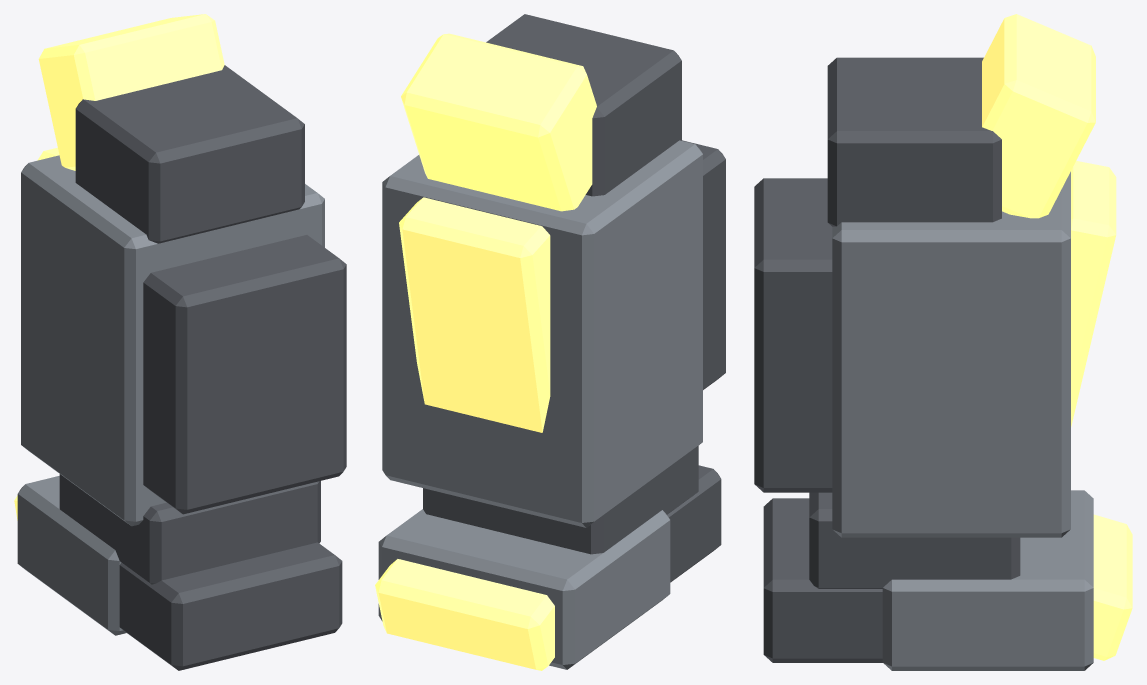
File: tankhead_leg_right_lower.glb
3 views of the same model, side by side, from view 1: azimuth 30°, elevation 25°; view 2: azimuth 150°, elevation 25°; view 3: azimuth 270°, elevation 25° (orthographic). The views are drawn at different scales.
Visible parts, largest first — view 1: tankhead_leg_right_lower; view 2: tankhead_leg_right_lower; view 3: tankhead_leg_right_lower.
Boxes of the visible parts, bbox=[...] form: tankhead_leg_right_lower: bbox=[14, 14, 346, 670]; tankhead_leg_right_lower: bbox=[375, 14, 725, 670]; tankhead_leg_right_lower: bbox=[754, 14, 1132, 670].
Size of the model in its own units: 0.54 by 1.39 by 0.8246.
